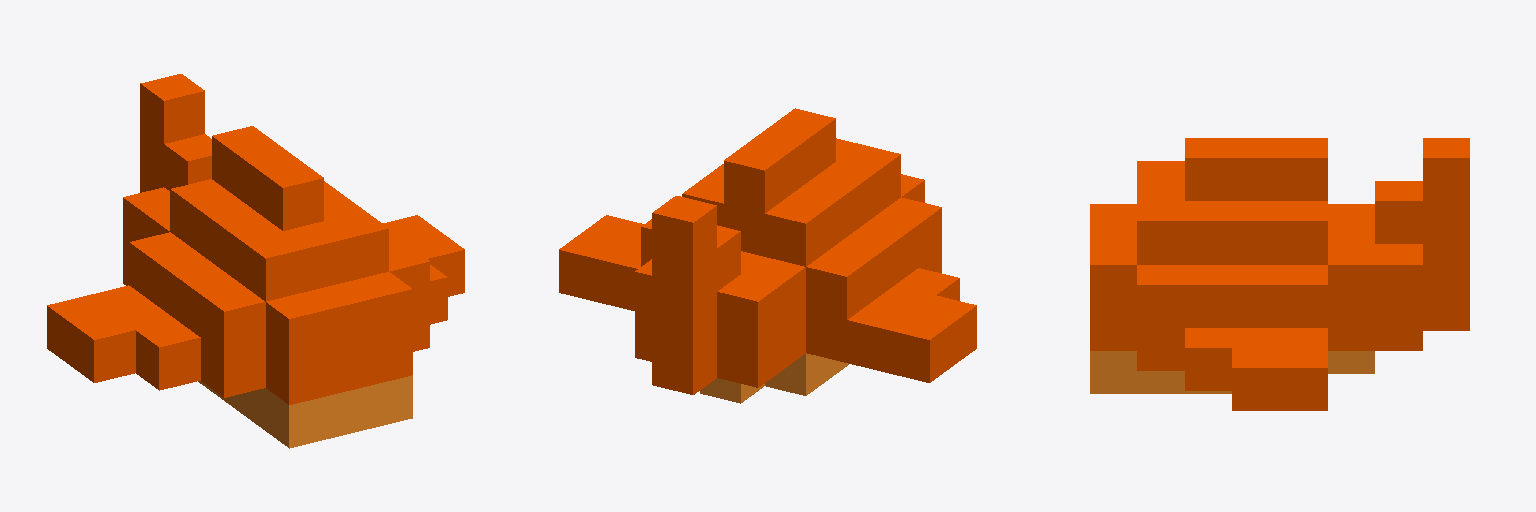
3 renders of one model, left to right at view 1: azimuth 30°, elevation 25°; view 2: azimuth 150°, elevation 25°; view 3: azimuth 270°, elevation 25°, orthographic.
Bounding box in the file's own units: 9 × 5 × 8.
Materials: 1 (1 with a texture image).